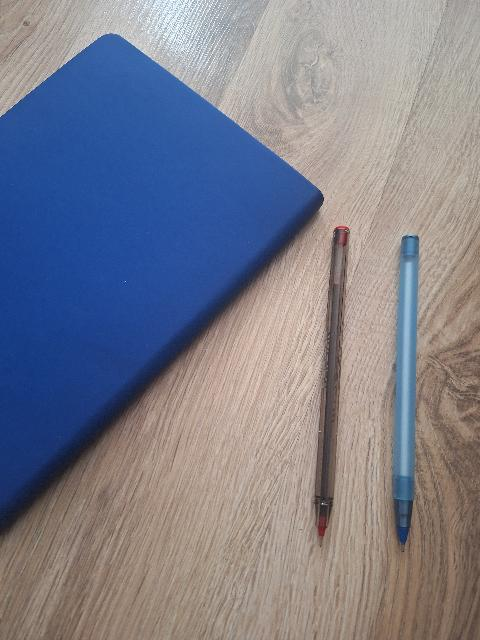writing_tool: (308, 225, 355, 549), (394, 232, 421, 558)
